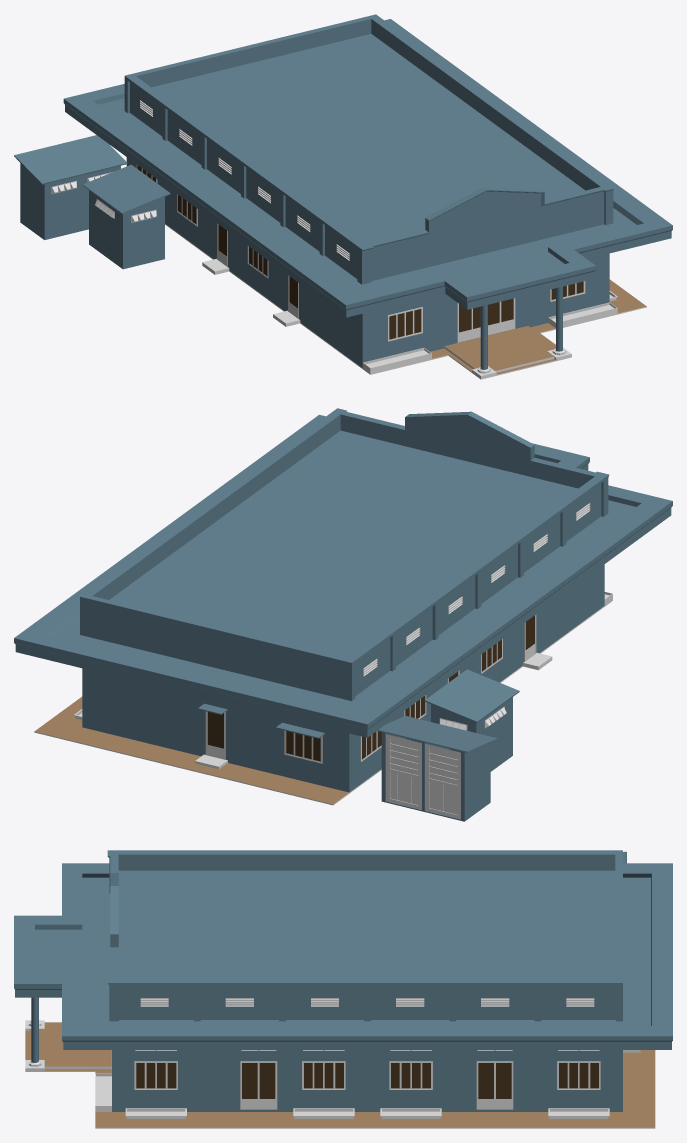
File: BlockD.fbx
The picture shows the model from 3 angles, top to bottom: view 1: azimuth 30°, elevation 25°; view 2: azimuth 150°, elevation 25°; view 3: azimuth 270°, elevation 25°; orthographic projection. The views are drawn at different scales.
Parts seen in each view (by area): view 1: Walls, Toilet, Small Garage, Floor, Doors and Windows, Frames, Flower Pot, Ventilator; view 2: Walls, Floor, Toilet, Door, Small Garage, Doors and Windows, Frames; view 3: Walls, Floor, Doors and Windows, Flower Pot, Frames.
Boxes of the visible parts, x1,y1,x2,y2 form: Walls: (63,14,672,367); Toilet: (14,135,127,239); Small Garage: (83,164,170,269); Floor: (165,224,646,379); Doors and Windows: (137,165,584,342); Frames: (136,164,585,373); Flower Pot: (362,291,617,373); Ventilator: (51,172,156,222); Walls: (14,408,672,792); Floor: (34,600,612,805); Toilet: (377,716,497,821); Door: (386,734,460,819); Small Garage: (424,669,519,771); Doors and Windows: (206,615,535,762); Frames: (205,614,536,763); Walls: (14,850,672,1111); Floor: (25,1020,655,1128); Doors and Windows: (135,1062,599,1109); Flower Pot: (95,1073,609,1118); Frames: (28,997,600,1109).
Bounding box in the file's own units: 3701 × 1331 × 4904.
